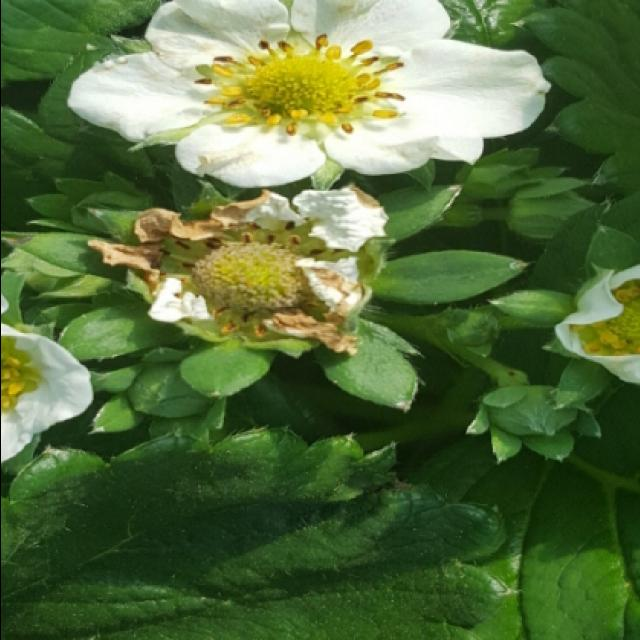Blossom Blight: (190, 30, 407, 142), (151, 216, 349, 338)
